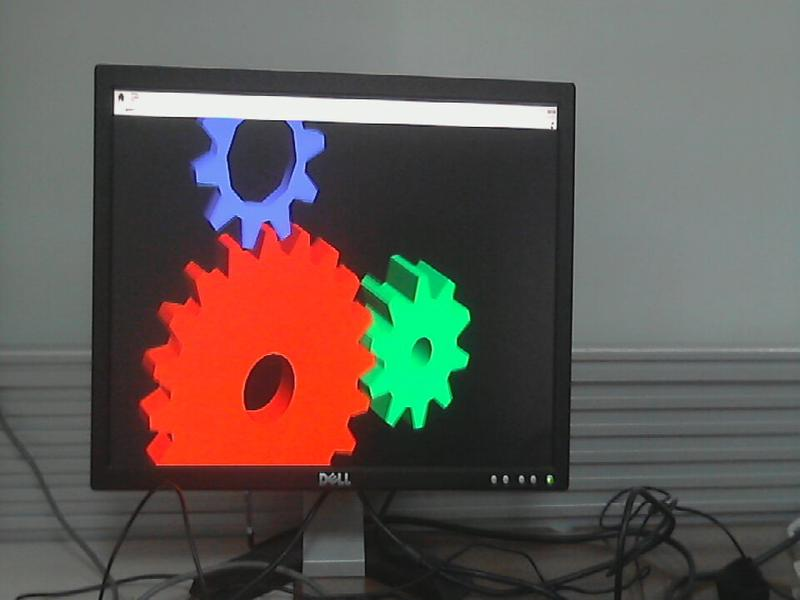glxgears_pass: (136, 109, 478, 463)
